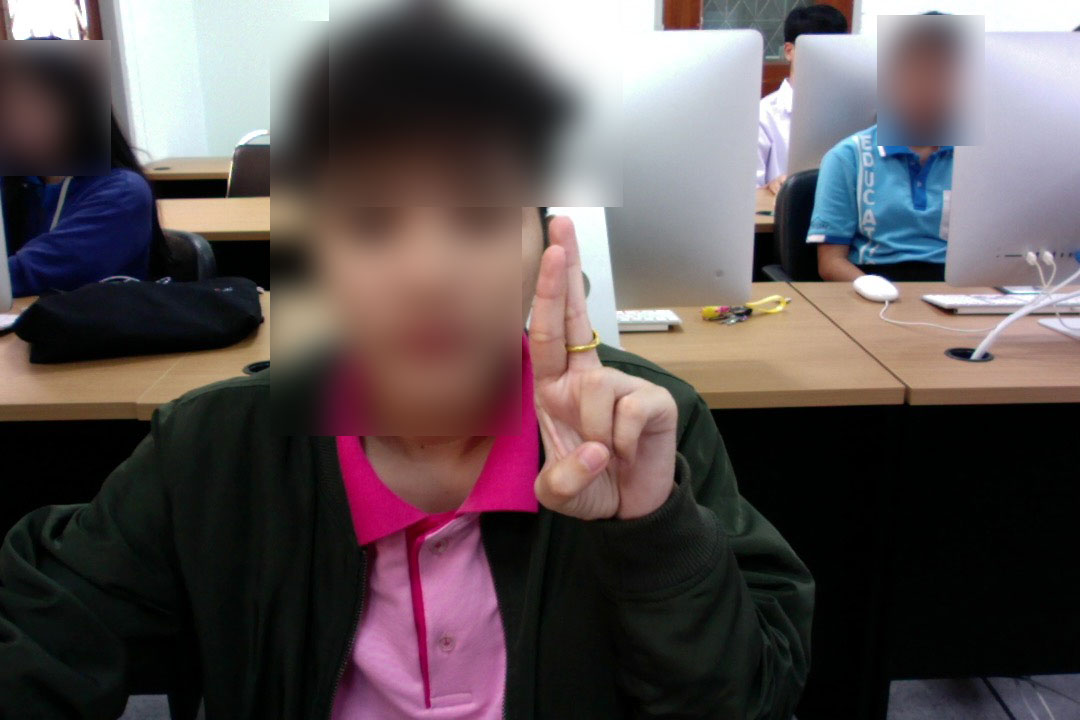rao: (510, 216, 693, 530)
